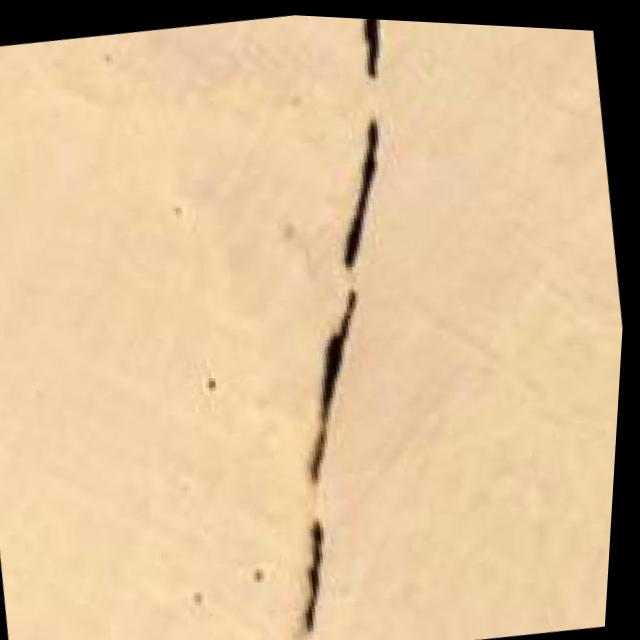Crack: (113, 6, 518, 640)
